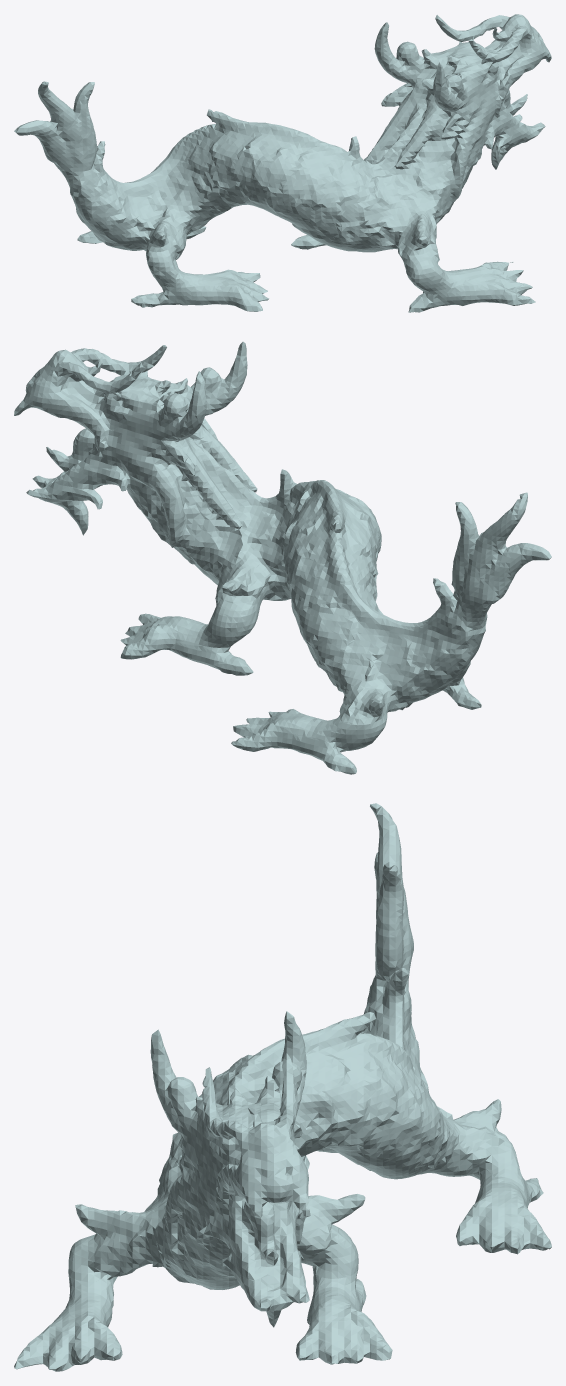
File: baseline_128.glb
3 renders of one model, top to bottom at view 1: azimuth 30°, elevation 25°; view 2: azimuth 150°, elevation 25°; view 3: azimuth 270°, elevation 25°, orthographic. The views are drawn at different scales.
Parts seen in each view (by area): view 1: baseline_128.ply; view 2: baseline_128.ply; view 3: baseline_128.ply.
Boxes of the visible parts, left/top/right/bottom form: baseline_128.ply: left=14, top=14, right=551, bottom=312; baseline_128.ply: left=14, top=341, right=551, bottom=774; baseline_128.ply: left=14, top=803, right=551, bottom=1371.
Size of the model in its own units: 1.99 by 0.8919 by 1.32.
